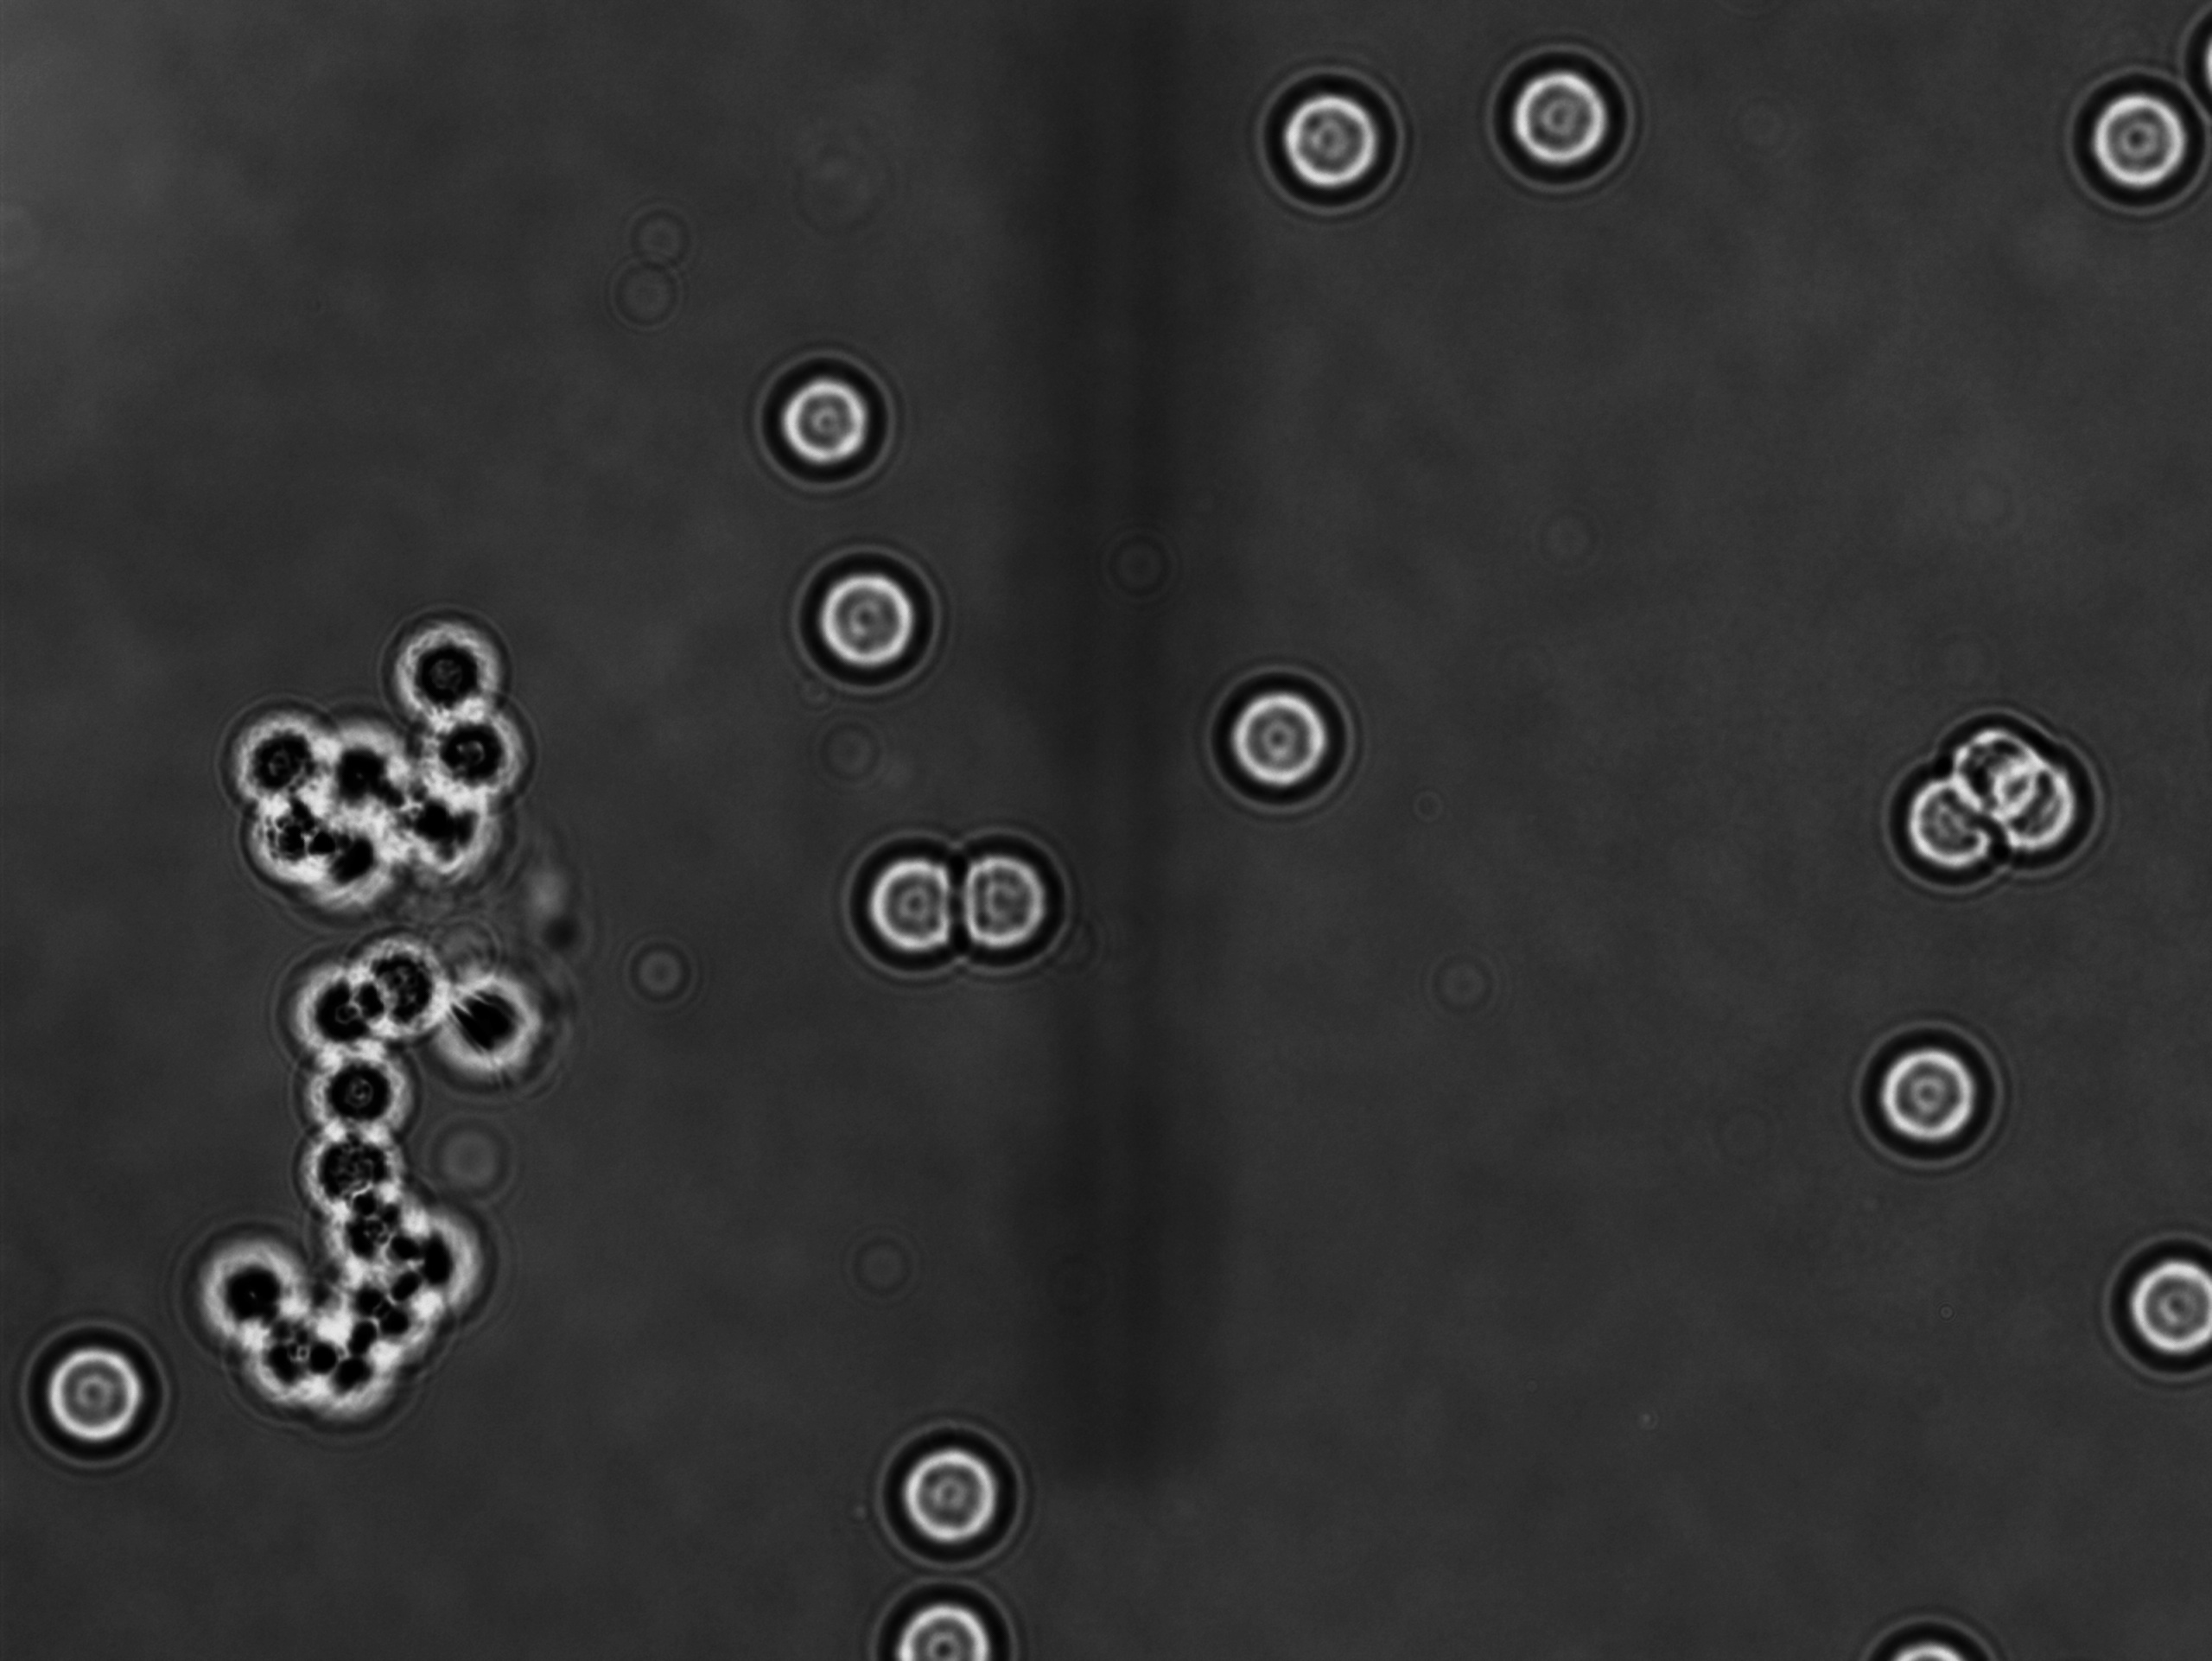depth:-20: (180, 1225, 335, 1380), (265, 946, 426, 1094), (290, 1031, 445, 1174), (373, 600, 523, 743), (216, 694, 351, 822)
depth:20: (1840, 1008, 2027, 1185), (1191, 646, 1375, 818), (857, 1410, 1036, 1576), (1478, 40, 1652, 206), (16, 1309, 180, 1480), (1244, 56, 1415, 218), (773, 537, 935, 698), (2055, 61, 2212, 227), (935, 813, 1085, 984), (1868, 754, 2027, 907), (743, 340, 895, 496), (836, 829, 982, 977), (2095, 1225, 2212, 1384)
